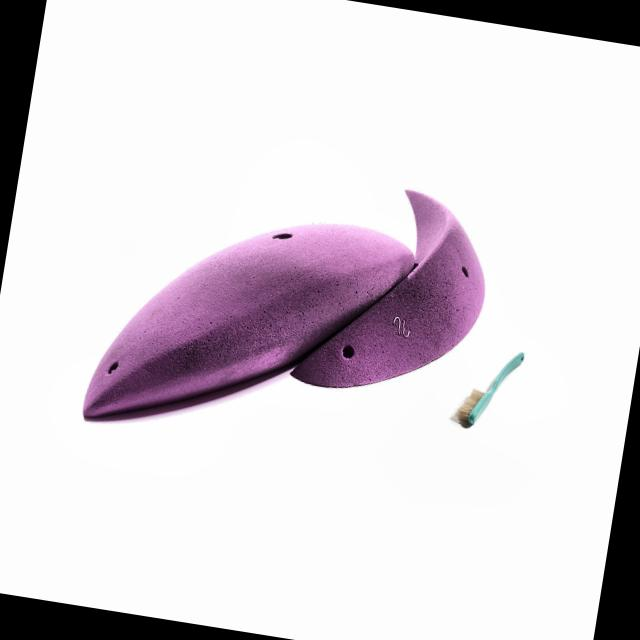Hold: (83, 134, 499, 480)
